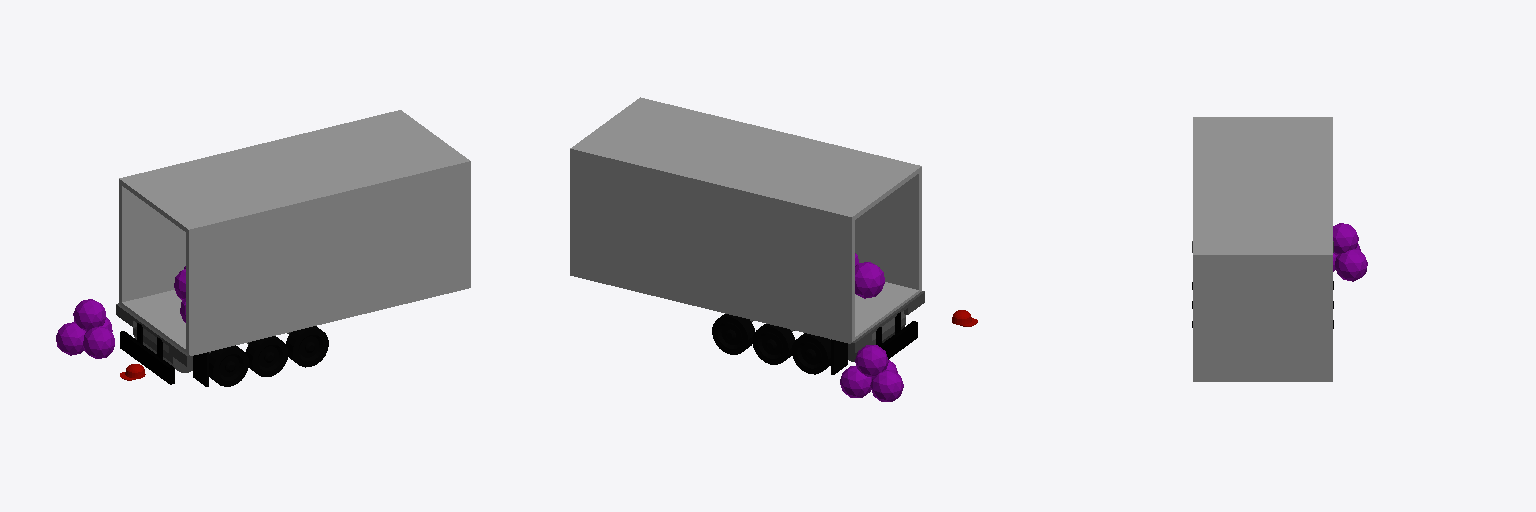
Rendered from GrapeCollection 2.obj.
3 renders of one model, left to right at view 1: azimuth 30°, elevation 25°; view 2: azimuth 150°, elevation 25°; view 3: azimuth 270°, elevation 25°, orthographic.
Visible parts, largest first — view 1: Cube_Cube.001, Circle, Icosphere.008, Cube.003_Cube.004, Cube.001_Cube.002, Cylinder_Cylinder.003; view 2: Cube_Cube.001, Circle, Icosphere.008, Icosphere.020_Icosphere.023, Cube.003_Cube.004, Cube.001_Cube.002; view 3: Cube_Cube.001, Icosphere.008.
Part boxes in pixels (x1,y1,x2,y2): Cube_Cube.001: (119,110,470,355); Circle: (209,326,328,386); Icosphere.008: (56,299,114,358); Cube.003_Cube.004: (120,323,174,384); Cube.001_Cube.002: (116,303,189,366); Cylinder_Cylinder.003: (133,327,192,372); Cube_Cube.001: (570,97,921,343); Circle: (712,314,830,374); Icosphere.008: (840,345,903,401); Icosphere.020_Icosphere.023: (855,253,884,298); Cube.003_Cube.004: (876,312,917,359); Cube.001_Cube.002: (851,291,924,353); Cube_Cube.001: (1193,117,1332,381); Icosphere.008: (1333,223,1367,281).
Size of the model in its own units: 30.8 by 14.61 by 13.71.